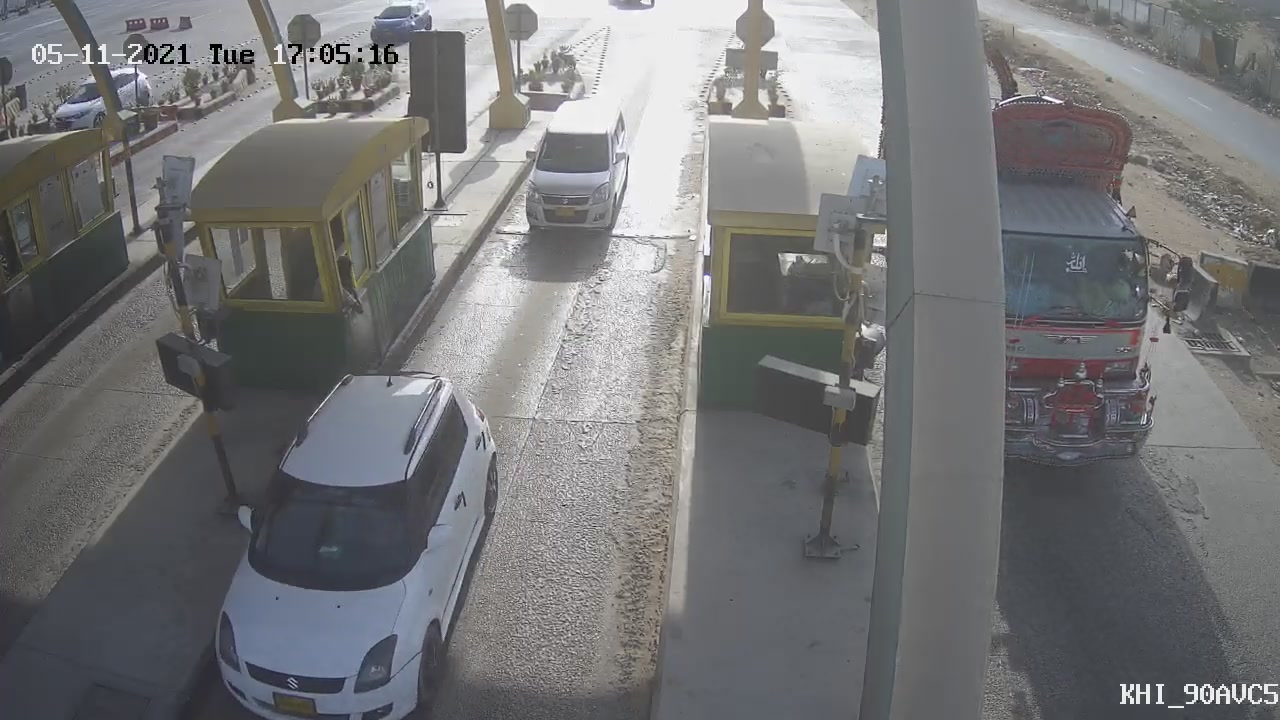F1: (504, 86, 647, 255)
